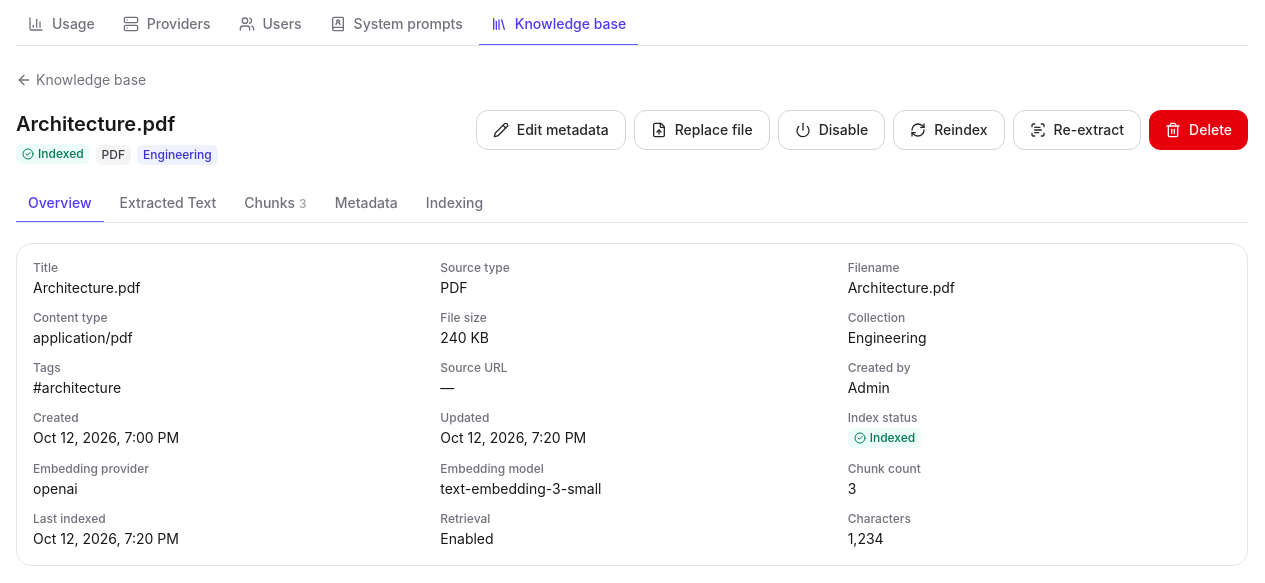
Test: KnowledgeSourcePage › lists chunks and navigates between them
Click the tab "Chunks3": coordinates (275, 204) [232,185,319,223]
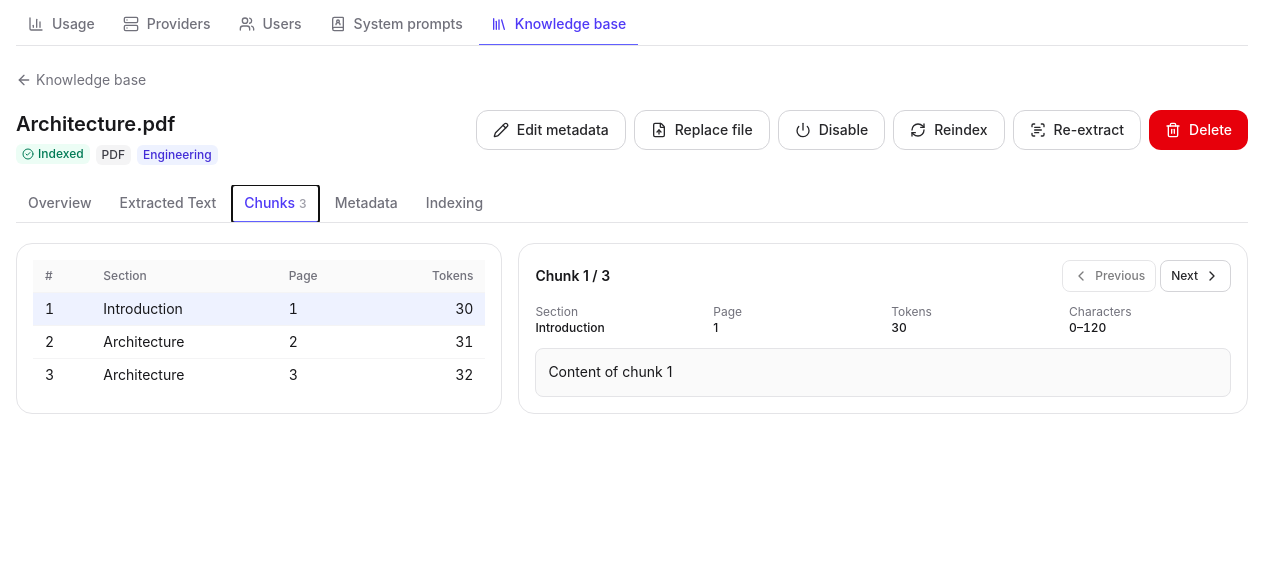
Result: the text "Content of chunk 1" is shown at [535,348,1231,397]
Result: the text "Introduction" is shown at [535,320,605,335]
Result: the button "Previous" is disabled at [1062,260,1156,292]
Click the button "Next": coordinates (1196, 276) [1160,260,1231,292]
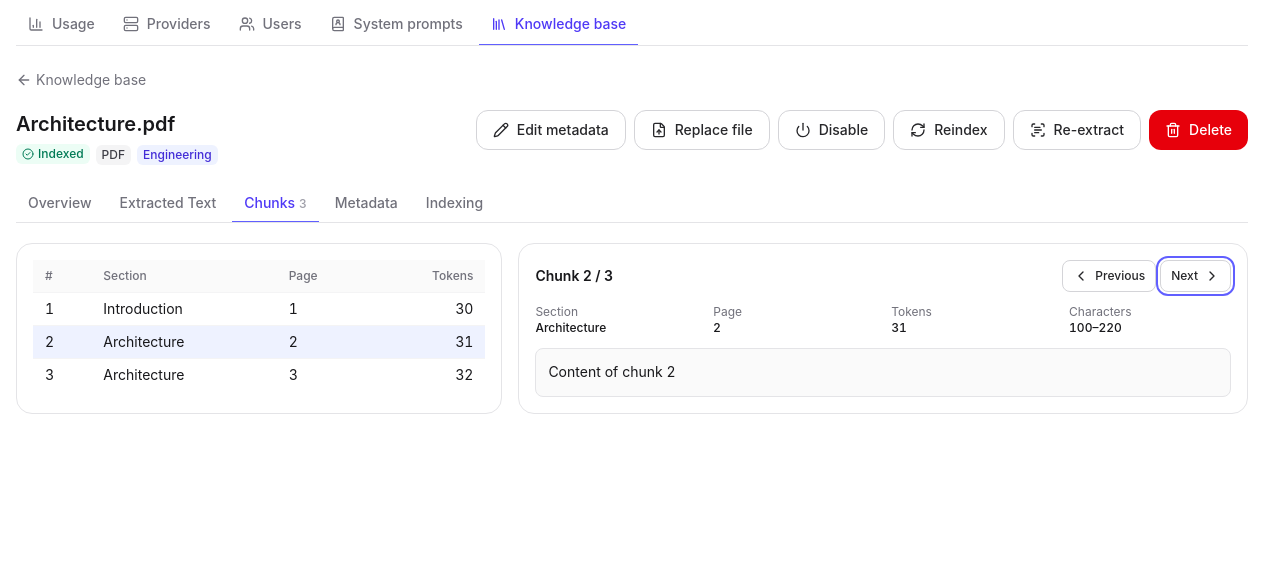
Result: the element named "Chunk 2 of 3" shows "Content of chunk 2" at [548,363,675,380]
Click the row "3 Architecture 3 32": coordinates (259, 375) [33,358,485,391]
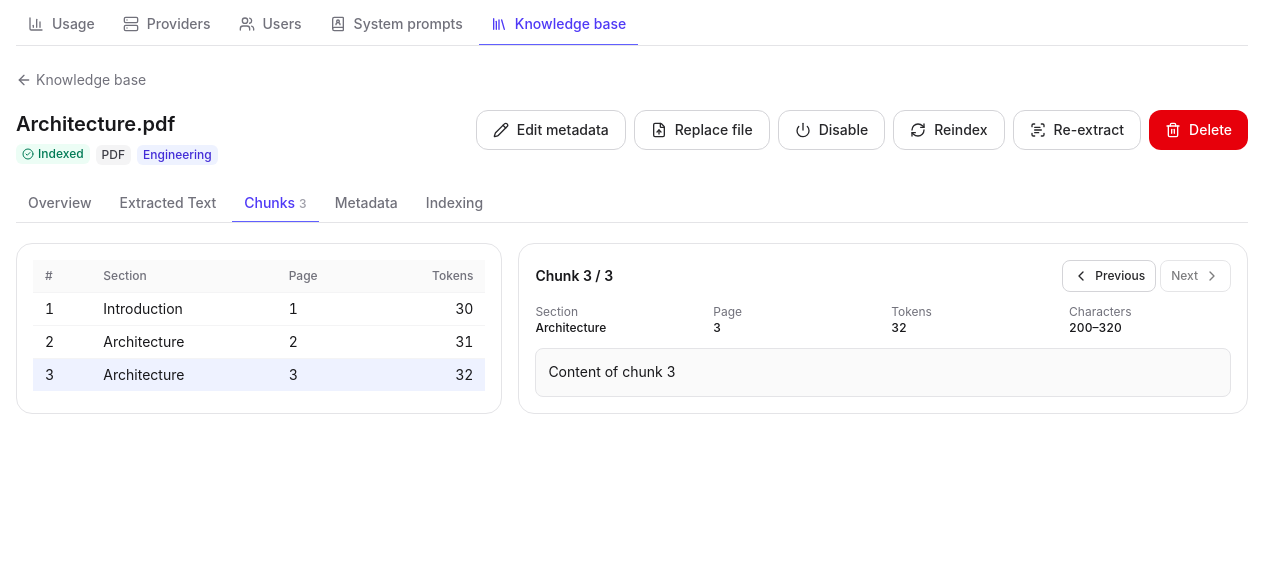
Result: the element named "Chunk 3 of 3" shows "Chunk 3 / 3" at [535,260,1231,397]
Result: the button "Next" is disabled at [1160,260,1231,292]
